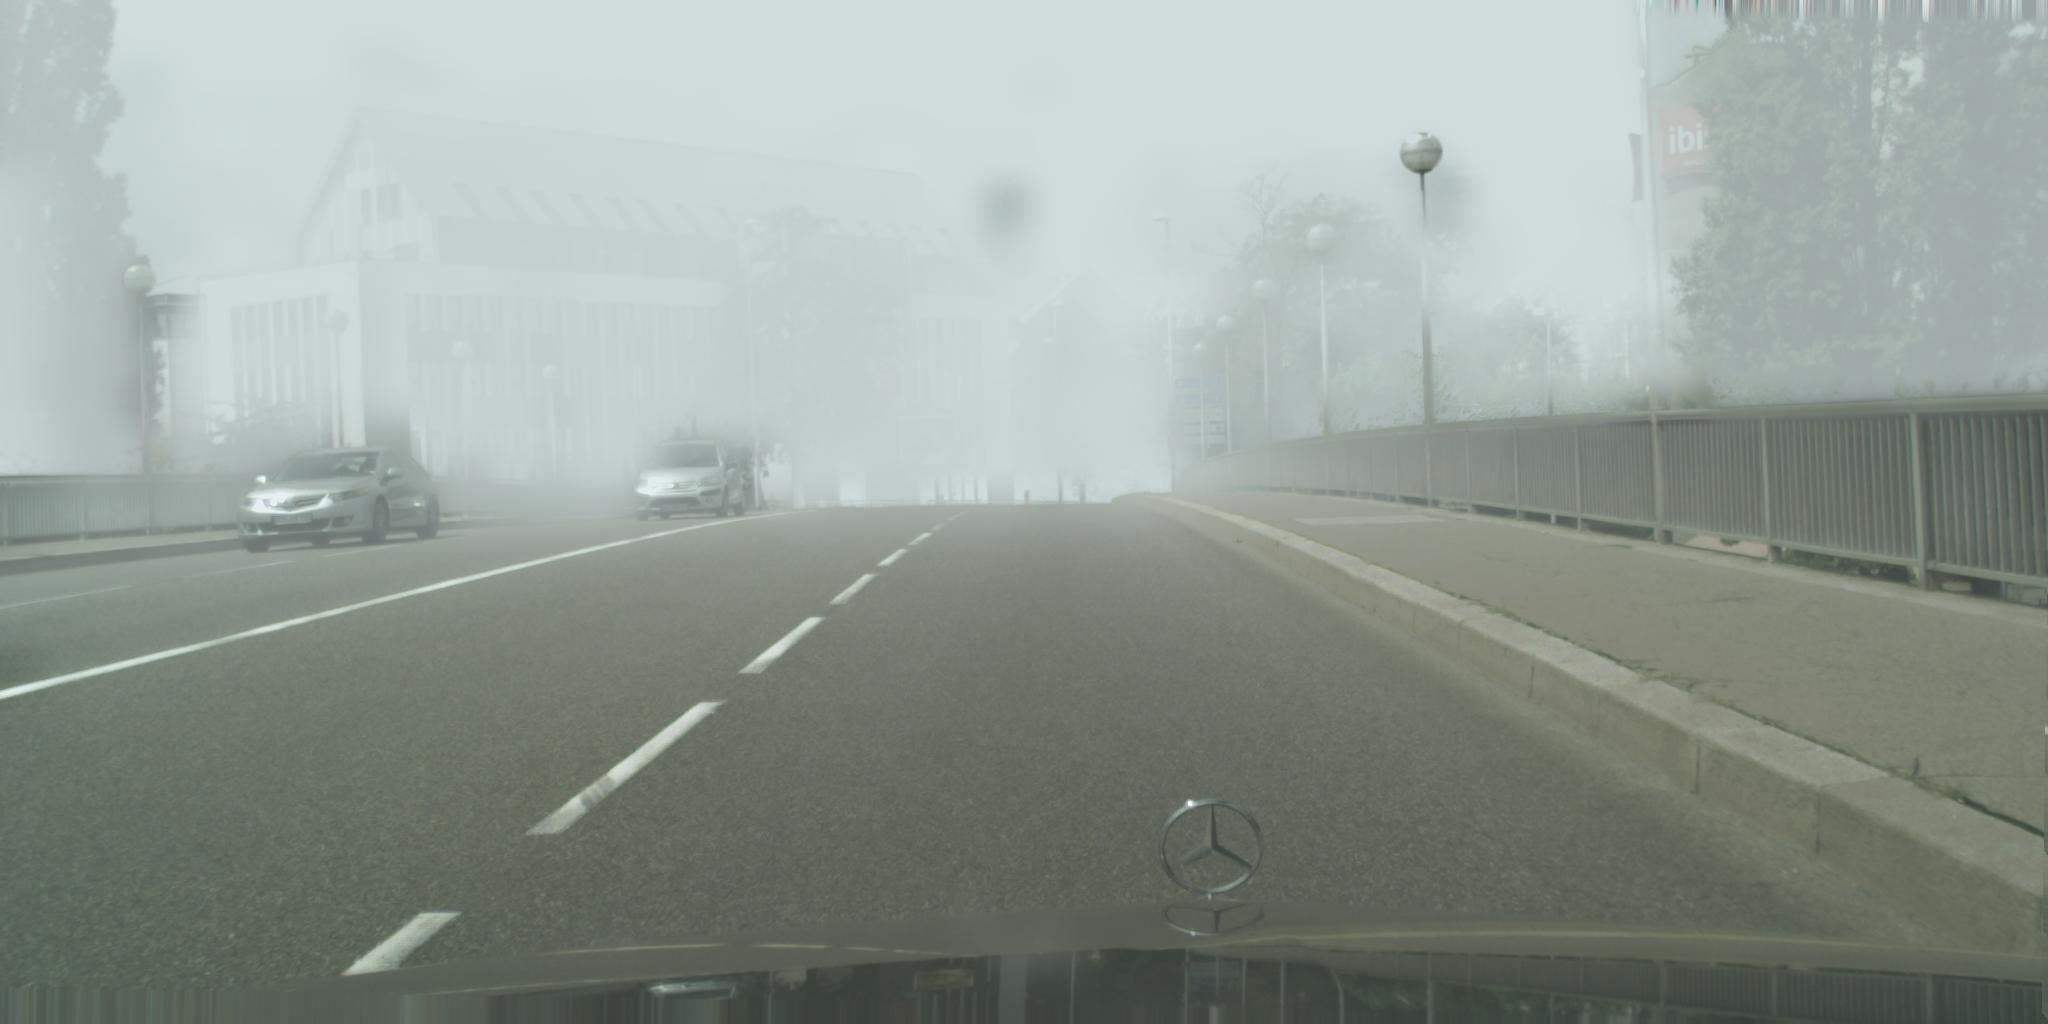car: (236, 444, 441, 554), (631, 439, 747, 522)
